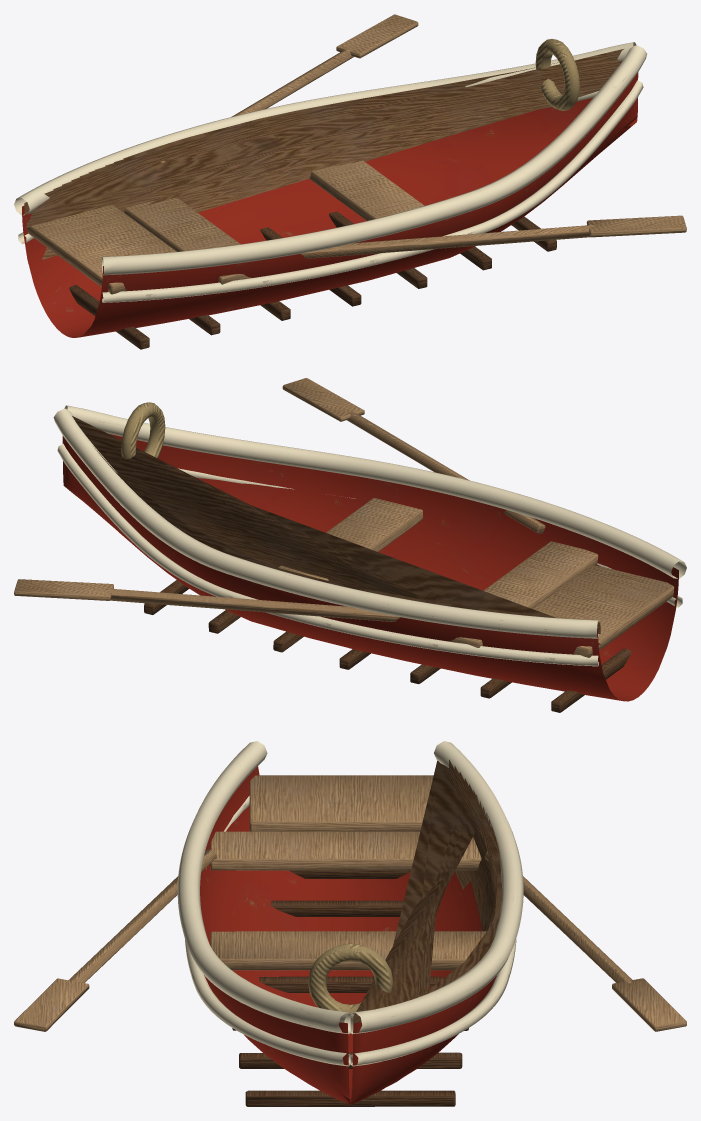
Rendered from rowboat.glb.
The picture shows the model from 3 angles, top to bottom: view 1: azimuth 30°, elevation 25°; view 2: azimuth 150°, elevation 25°; view 3: azimuth 270°, elevation 25°; orthographic projection. The views are drawn at different scales.
Visible parts, largest first — view 1: rowboat_Paint_Red_Dark, rowboat_Wood_Plank, rowboat_Paint_Cream, rowboat_Wood_Light, rowboat_Wood_Dark, rowboat_Rope; view 2: rowboat_Paint_Red_Dark, rowboat_Paint_Cream, rowboat_Wood_Light, rowboat_Wood_Plank, rowboat_Wood_Dark, rowboat_Rope; view 3: rowboat_Wood_Light, rowboat_Paint_Red_Dark, rowboat_Paint_Cream, rowboat_Wood_Plank, rowboat_Wood_Dark, rowboat_Rope.
Part boxes in pixels (x1,y1,x2,y2): rowboat_Paint_Red_Dark: [22, 72, 638, 337]; rowboat_Wood_Plank: [24, 49, 623, 259]; rowboat_Paint_Cream: [14, 42, 647, 302]; rowboat_Wood_Light: [26, 14, 686, 294]; rowboat_Wood_Dark: [69, 211, 556, 349]; rowboat_Rope: [535, 39, 579, 110]; rowboat_Paint_Red_Dark: [62, 433, 678, 701]; rowboat_Paint_Cream: [53, 405, 686, 666]; rowboat_Wood_Light: [14, 378, 674, 657]; rowboat_Wood_Plank: [62, 416, 601, 645]; rowboat_Wood_Dark: [144, 580, 631, 712]; rowboat_Rope: [121, 402, 165, 458]; rowboat_Wood_Light: [14, 775, 686, 1031]; rowboat_Paint_Red_Dark: [200, 766, 496, 1104]; rowboat_Paint_Cream: [177, 741, 523, 1066]; rowboat_Wood_Plank: [353, 759, 502, 1035]; rowboat_Wood_Dark: [232, 870, 468, 1106]; rowboat_Rope: [308, 943, 393, 1013].
Size of the model in its own units: 3.45 by 0.9699 by 2.99.
6 materials, 6 textured.
